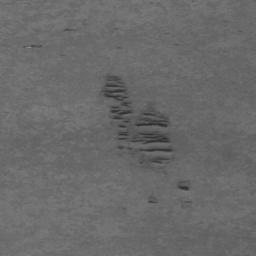Secondary rust skin: (100, 76, 172, 174), (176, 178, 191, 208), (147, 192, 157, 203)
